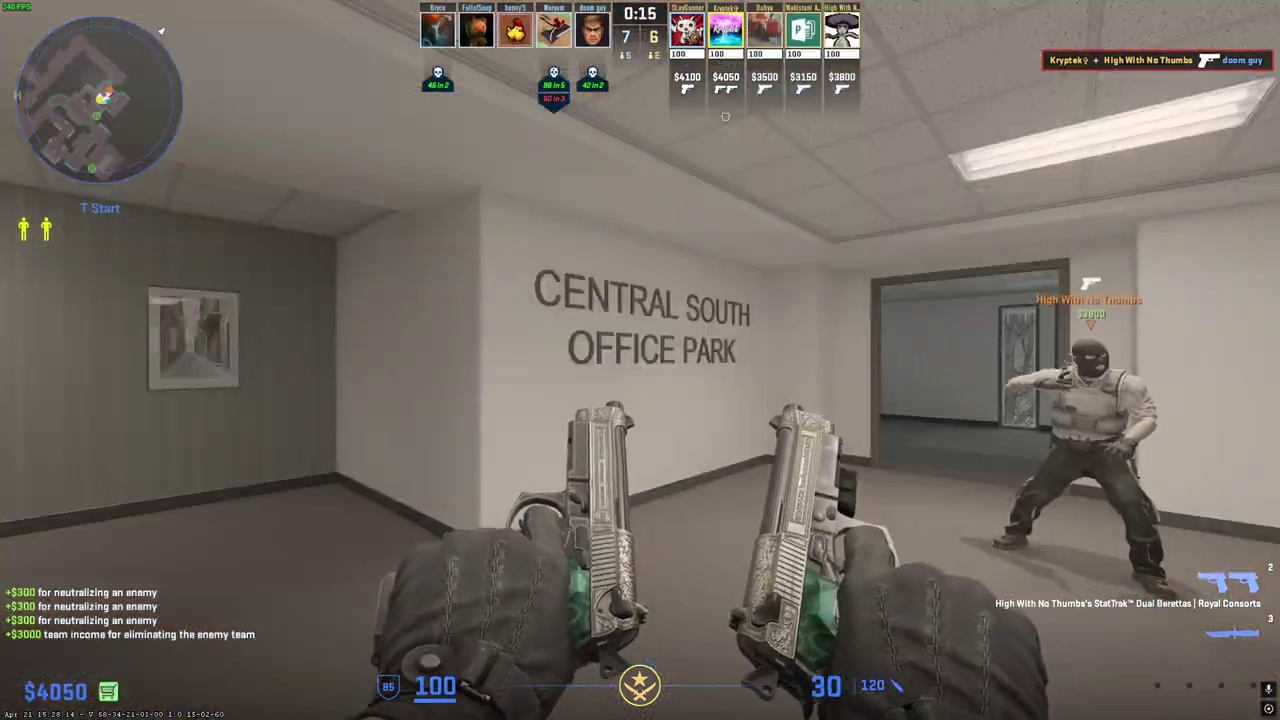Terrorist: (1003, 337, 1177, 591)
